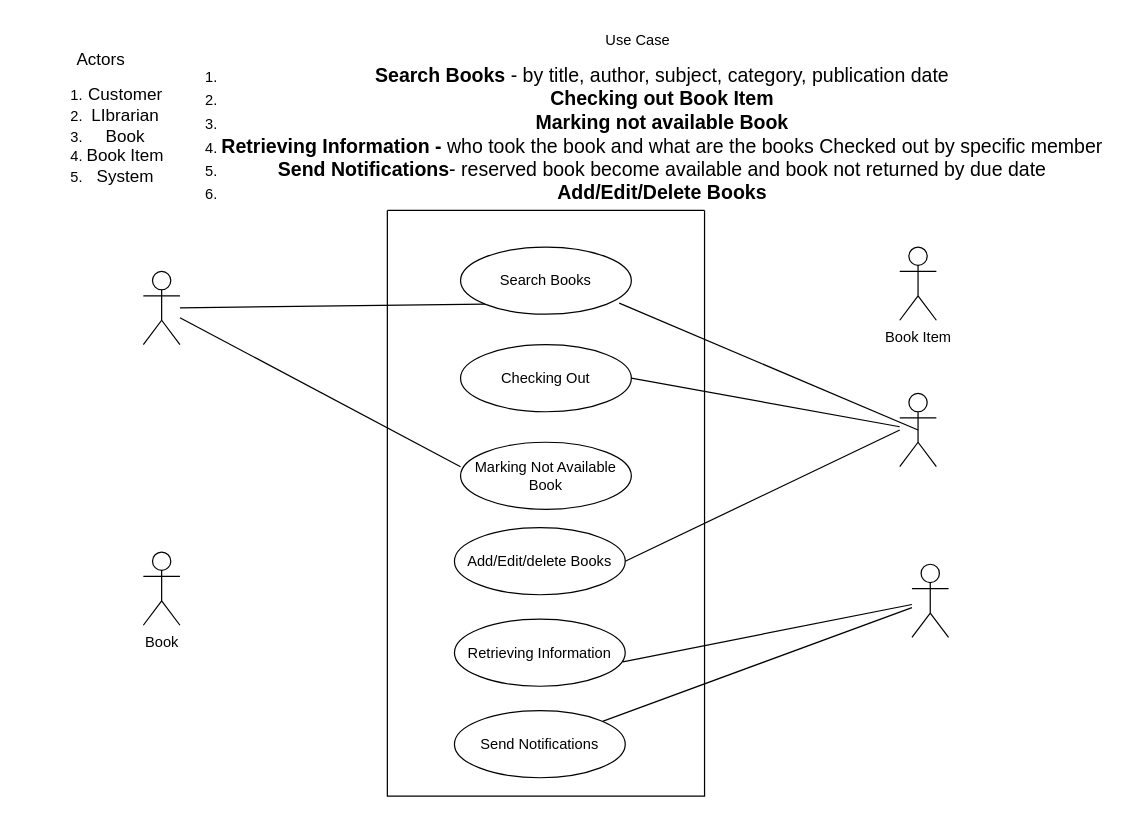
Some shapes in this 1139 by 817 pixel diagram are drawn without their labels. The shapes that lost their labels are listed below. From the top down, each one's centre as x and y in pixels, then its label:
pixel 161 307: Customer
pixel 917 429: Librarian
pixel 930 600: System
